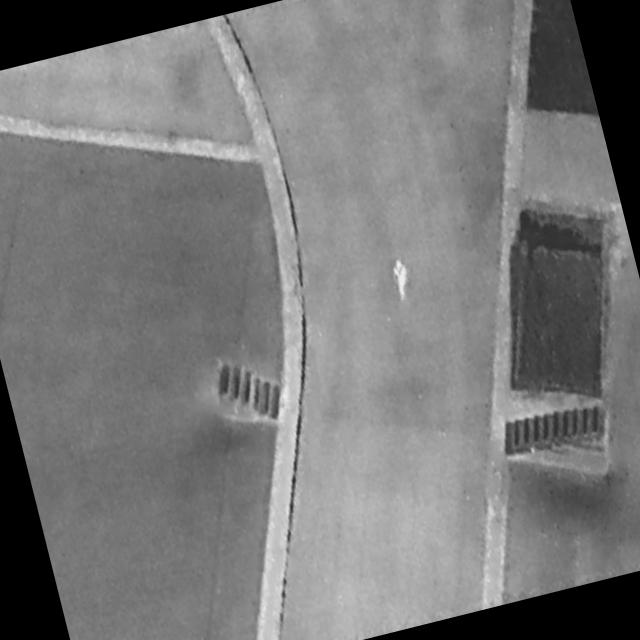person: (386, 255, 417, 307)
